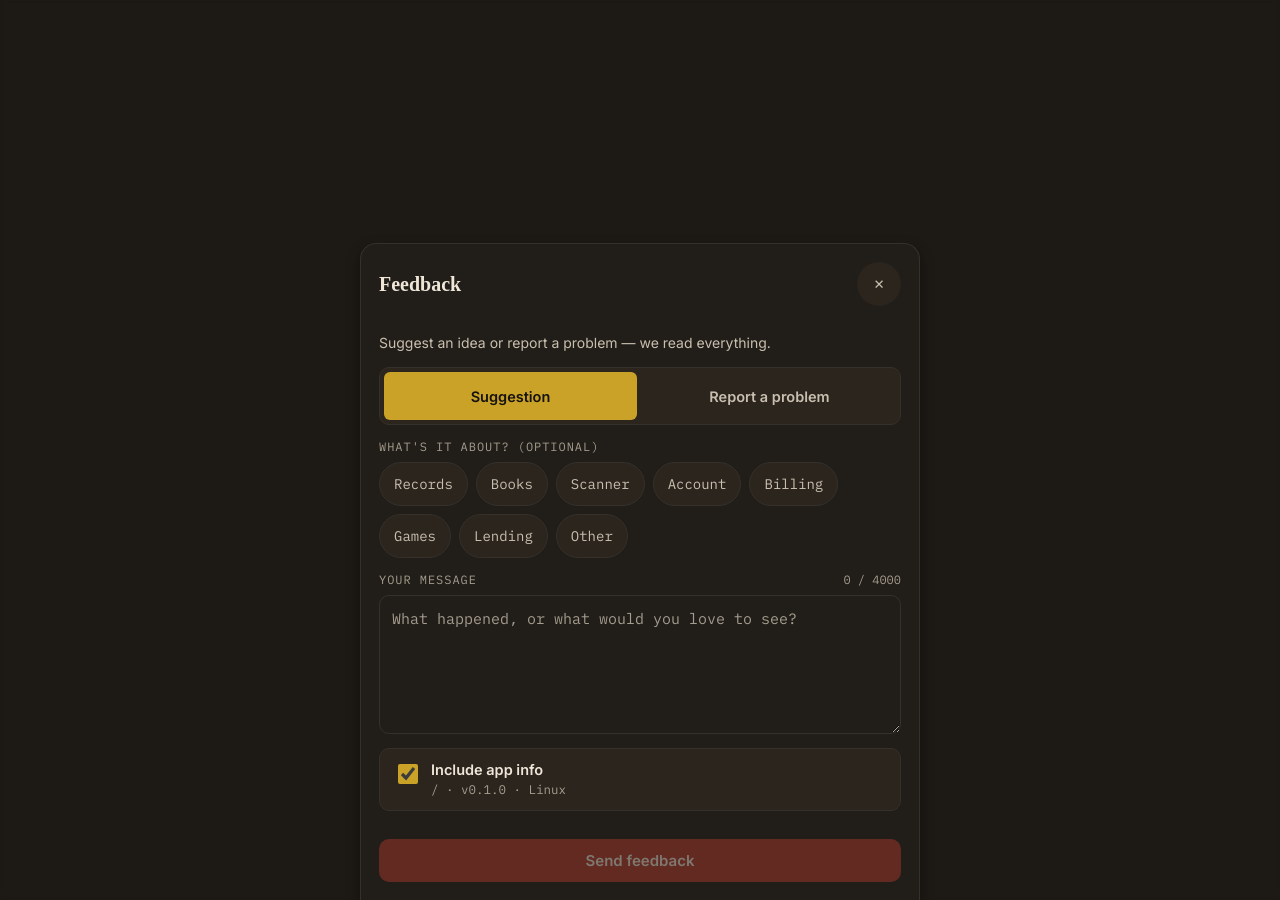
Test case: FeedbackModal — member-facing form (feat/feedback #82, epic #74) › shows a live character counter as the user types
Check: the text "0 / 4000" is shown, box [843,572,901,587]
Type "hello" into the text box labelled "Your message 0 / 4000" at (640, 665), box [379,595,901,734]
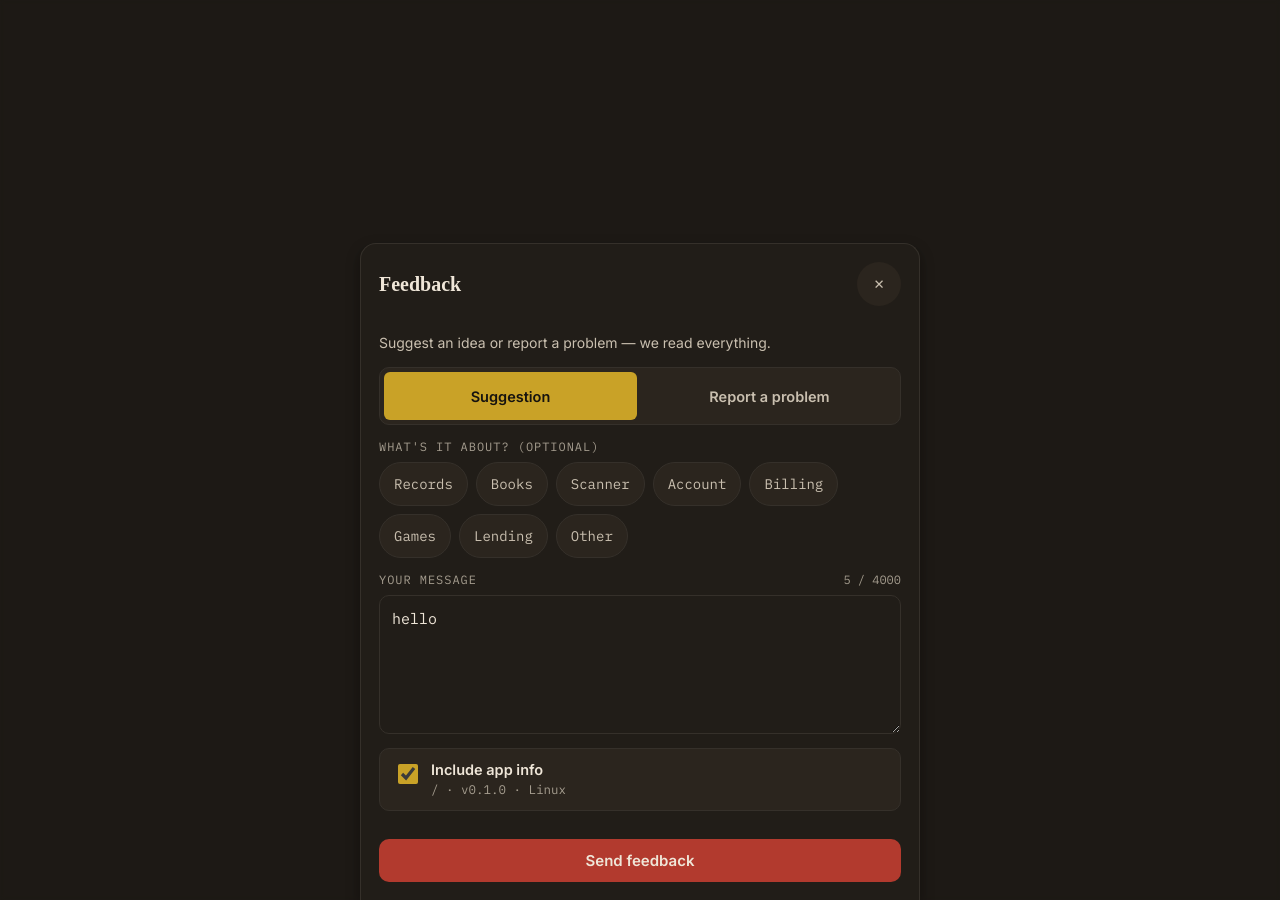
Check: the text "5 / 4000" is shown, box [843,572,901,587]
